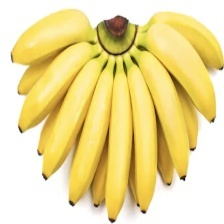banana: (54, 24, 189, 213)
